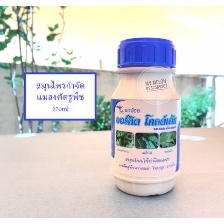insecticide: (107, 34, 183, 201)
